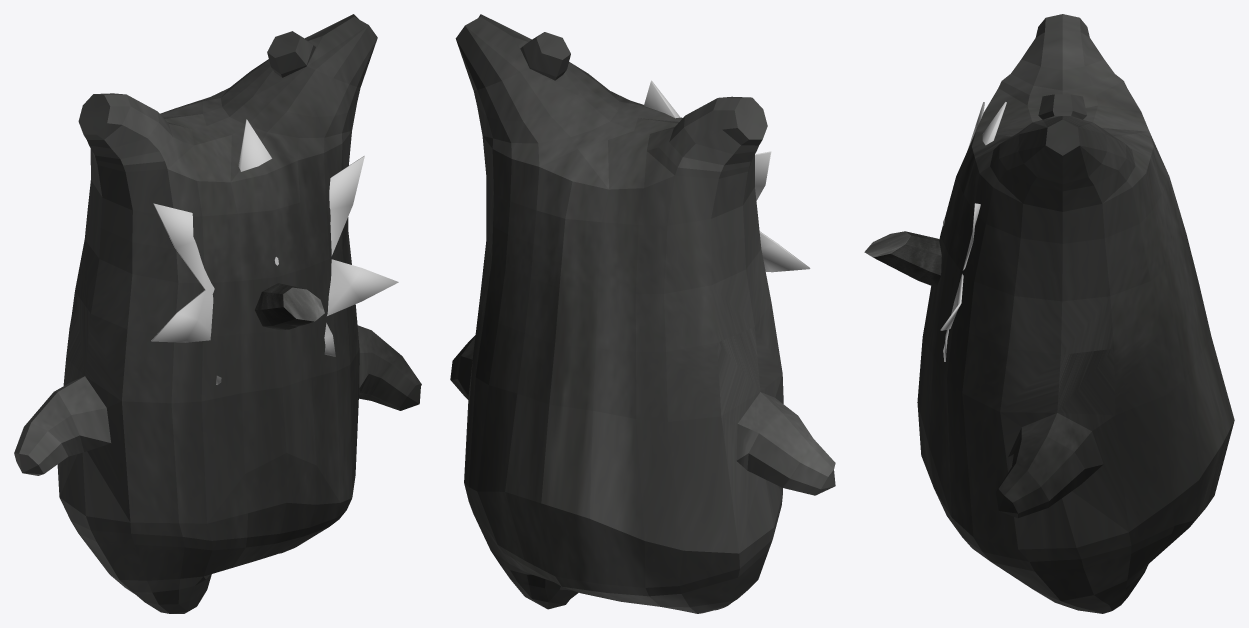
The model's file is frame_0015.obj.
3 views of the same model, side by side, from view 1: azimuth 30°, elevation 25°; view 2: azimuth 150°, elevation 25°; view 3: azimuth 270°, elevation 25° (orthographic). The views are drawn at different scales.
Parts seen in each view (by area): view 1: korok, leaf, nose.003_柱体.011; view 2: korok, leaf; view 3: korok, nose.003_柱体.011, leaf.
Boxes of the visible parts, x1,y1,x2,y2 form: korok: (14, 14, 421, 613); leaf: (151, 119, 398, 384); nose.003_柱体.011: (255, 283, 324, 330); korok: (450, 14, 835, 613); leaf: (644, 80, 810, 272); korok: (917, 14, 1234, 613); nose.003_柱体.011: (864, 231, 941, 287); leaf: (940, 102, 1006, 361).
Size of the model in its own units: 1.62 by 2.17 by 1.36.
